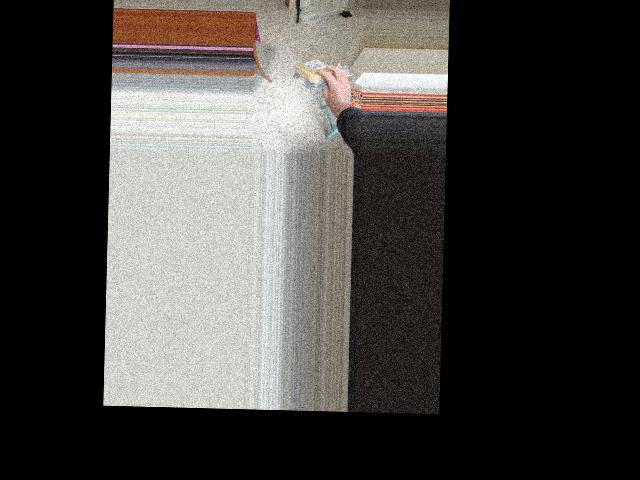cheese: (293, 59, 345, 86)
